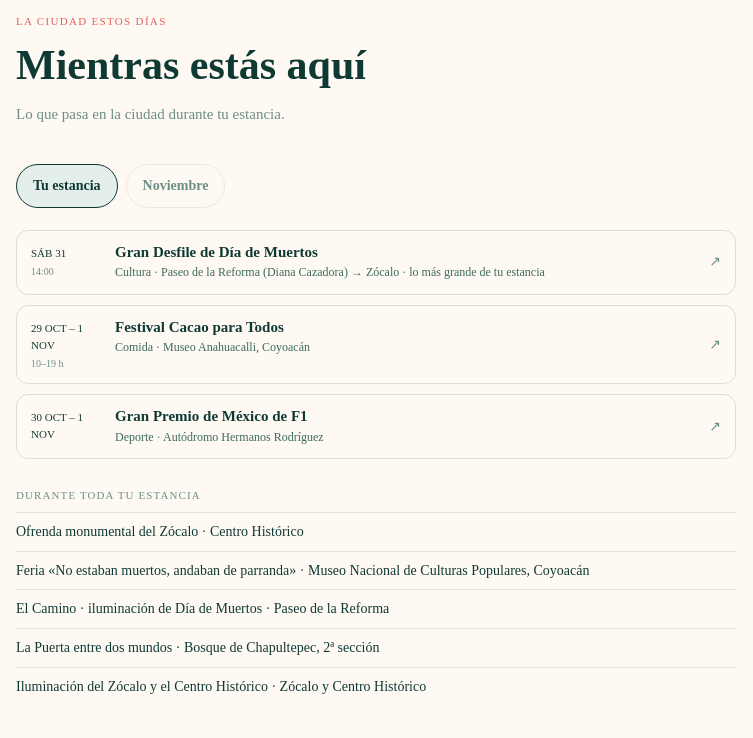
Test: AgendaSection — tabs and lists › month tab: compact rows (full date range, title, category — no venue), sorted by start, "after your stay" tag
What coordinates should you click on to do the following:
click the button "Noviembre"
I would click on:
 (176, 186)
Its box is left=126, top=164, right=225, bottom=208.
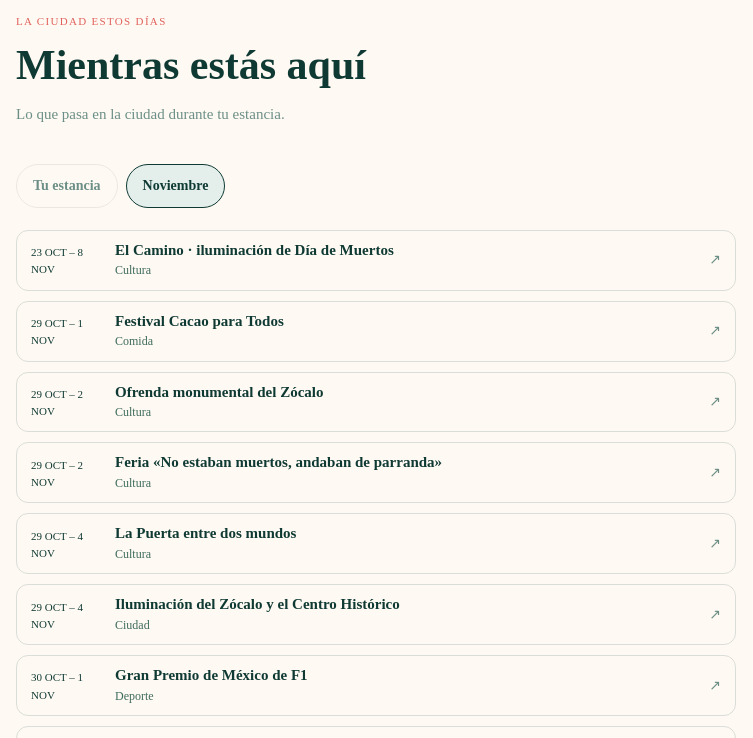
Expected: the list item that starts with "23 OCT – 8 NOV" is shown, left=16, top=230, right=736, bottom=291
Expected: the list item that starts with "23 OCT – 8 NOV" shows "Cultura", left=16, top=230, right=736, bottom=291
Expected: the list item that starts with "23 OCT – 8 NOV" no longer shows "Paseo de la Reforma", left=16, top=230, right=736, bottom=291
